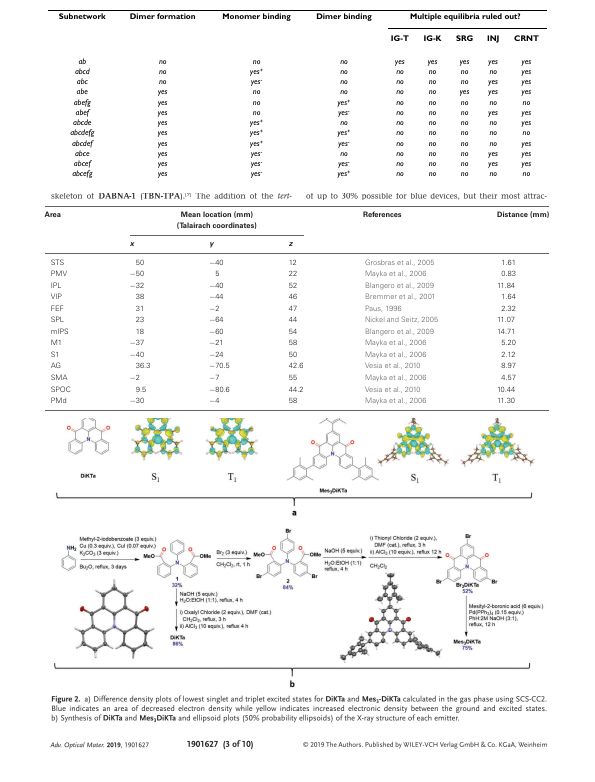borderless: (44, 205, 549, 410), (46, 8, 548, 187)
cell: (176, 211, 258, 231), (408, 13, 521, 22), (364, 316, 439, 325), (364, 294, 436, 303), (364, 259, 435, 268), (364, 282, 435, 291), (364, 328, 435, 337), (221, 13, 291, 22), (128, 13, 196, 22), (364, 351, 427, 360), (364, 374, 427, 383), (364, 397, 427, 406), (364, 363, 421, 372), (364, 386, 421, 395), (315, 13, 372, 22), (364, 271, 427, 279), (364, 340, 427, 348), (57, 13, 106, 22), (496, 211, 550, 219), (364, 305, 403, 314), (362, 211, 403, 219), (513, 35, 539, 44), (69, 129, 95, 138), (70, 139, 93, 149), (208, 363, 231, 372), (208, 386, 231, 395), (50, 386, 72, 395), (71, 170, 93, 179), (72, 98, 91, 108), (496, 282, 516, 291), (496, 316, 516, 325), (50, 328, 70, 337), (496, 328, 516, 337), (496, 386, 516, 395), (496, 397, 516, 406), (389, 35, 409, 44), (422, 35, 442, 44), (454, 35, 474, 44), (72, 119, 92, 128), (72, 160, 91, 169), (73, 67, 90, 77), (73, 149, 90, 159), (50, 374, 68, 383), (50, 397, 68, 406), (74, 108, 90, 118), (208, 259, 225, 268), (500, 259, 517, 268), (208, 282, 225, 291), (208, 294, 225, 303), (500, 294, 517, 303), (500, 305, 517, 314), (208, 316, 225, 325), (208, 328, 225, 337), (208, 340, 225, 349), (208, 351, 225, 360), (500, 363, 517, 372), (500, 374, 517, 383), (43, 211, 62, 219), (249, 67, 264, 77), (336, 98, 351, 108), (249, 139, 264, 149), (50, 271, 68, 279), (129, 282, 145, 291), (129, 340, 145, 349), (129, 351, 145, 360), (500, 351, 516, 360), (135, 363, 151, 372), (288, 363, 304, 372), (288, 386, 304, 395), (129, 397, 145, 406), (249, 149, 263, 159), (500, 271, 517, 279), (500, 340, 517, 348), (50, 259, 65, 268), (50, 305, 65, 314), (50, 316, 65, 325), (485, 35, 500, 44), (249, 119, 264, 128), (249, 129, 264, 138), (336, 129, 351, 138), (336, 170, 351, 179), (337, 108, 350, 118), (337, 139, 350, 149), (129, 271, 145, 279), (249, 78, 263, 87), (249, 160, 263, 169), (249, 170, 263, 179), (426, 57, 438, 67), (458, 57, 470, 67), (520, 57, 532, 67), (520, 67, 532, 77), (156, 98, 168, 108), (156, 108, 168, 118), (520, 108, 532, 118), (156, 139, 168, 149), (520, 139, 532, 149), (156, 149, 168, 159), (520, 149, 532, 159), (50, 282, 63, 291), (50, 294, 63, 303), (50, 340, 63, 349), (75, 78, 88, 87), (75, 88, 88, 97), (337, 160, 350, 169), (394, 57, 405, 67), (487, 57, 498, 67), (487, 108, 498, 118), (487, 149, 498, 159), (208, 305, 220, 314), (50, 363, 62, 372), (129, 374, 141, 383), (208, 374, 220, 383), (135, 386, 147, 395), (208, 397, 220, 406), (520, 78, 532, 87), (156, 88, 168, 97), (458, 88, 470, 97), (520, 88, 532, 97), (156, 119, 168, 128), (520, 119, 532, 128), (156, 129, 168, 138), (156, 160, 168, 169), (520, 160, 532, 169), (156, 170, 168, 179), (77, 57, 87, 67), (157, 57, 167, 67), (251, 57, 261, 67), (157, 67, 167, 77), (427, 67, 437, 77), (459, 67, 469, 77), (251, 98, 261, 108), (427, 98, 437, 108), (459, 98, 469, 108), (521, 98, 531, 108), (251, 108, 261, 118), (427, 108, 437, 118), (459, 108, 469, 118), (427, 139, 437, 149), (459, 139, 469, 149), (427, 149, 437, 159), (459, 149, 469, 159), (487, 78, 498, 87), (487, 88, 498, 97), (487, 160, 498, 169), (135, 259, 145, 268), (288, 259, 298, 268), (288, 282, 298, 291), (135, 294, 145, 303), (288, 294, 298, 303), (135, 305, 145, 314), (288, 305, 298, 314), (135, 316, 145, 325), (288, 316, 298, 325), (135, 328, 145, 337), (288, 328, 298, 337), (288, 340, 298, 349), (50, 351, 60, 360), (288, 351, 298, 360), (288, 374, 298, 383), (288, 397, 298, 406), (339, 57, 348, 67), (339, 67, 348, 77), (395, 67, 404, 77), (488, 67, 497, 77), (157, 78, 167, 87), (427, 78, 437, 87), (459, 78, 469, 87), (251, 88, 261, 97), (427, 88, 437, 97), (395, 98, 404, 108), (488, 98, 497, 108), (395, 108, 404, 118), (427, 119, 437, 128), (459, 119, 469, 128), (427, 129, 437, 138), (459, 129, 469, 138), (521, 129, 531, 138), (395, 139, 404, 149), (488, 139, 497, 149), (339, 149, 348, 159), (395, 149, 404, 159), (427, 160, 437, 169), (459, 160, 469, 169), (427, 170, 437, 179), (459, 170, 469, 179), (521, 170, 531, 179), (339, 78, 348, 87), (395, 78, 404, 87), (339, 88, 348, 97), (395, 88, 404, 97), (339, 119, 348, 128), (395, 119, 404, 128), (488, 119, 497, 128), (395, 129, 404, 138), (488, 129, 497, 138), (395, 160, 404, 169), (395, 170, 404, 179), (488, 170, 497, 179), (288, 271, 298, 279), (214, 271, 220, 279), (129, 242, 135, 249), (208, 242, 214, 249), (288, 242, 293, 249)
